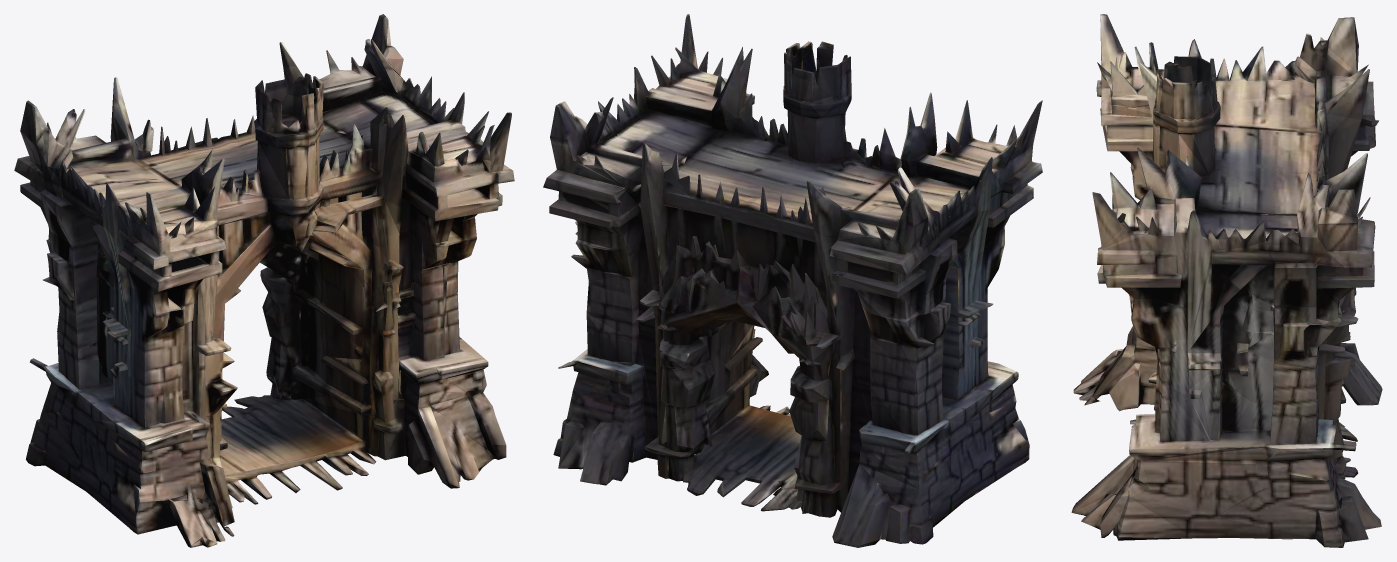
The model's file is orc_fortress_gate_ruin_01.glb.
3 views of the same model, side by side, from view 1: azimuth 30°, elevation 25°; view 2: azimuth 150°, elevation 25°; view 3: azimuth 270°, elevation 25° (orthographic).
Parts seen in each view (by area): view 1: geometry_0; view 2: geometry_0; view 3: geometry_0.
Part boxes in pixels (box(x1,y1,x2,y2)): geometry_0: box(14, 14, 514, 547); geometry_0: box(543, 14, 1042, 547); geometry_0: box(1071, 14, 1382, 547).
Size of the model in its own units: 0.9895 by 0.9993 by 0.7204.
Materials: 1 (1 with a texture image).
